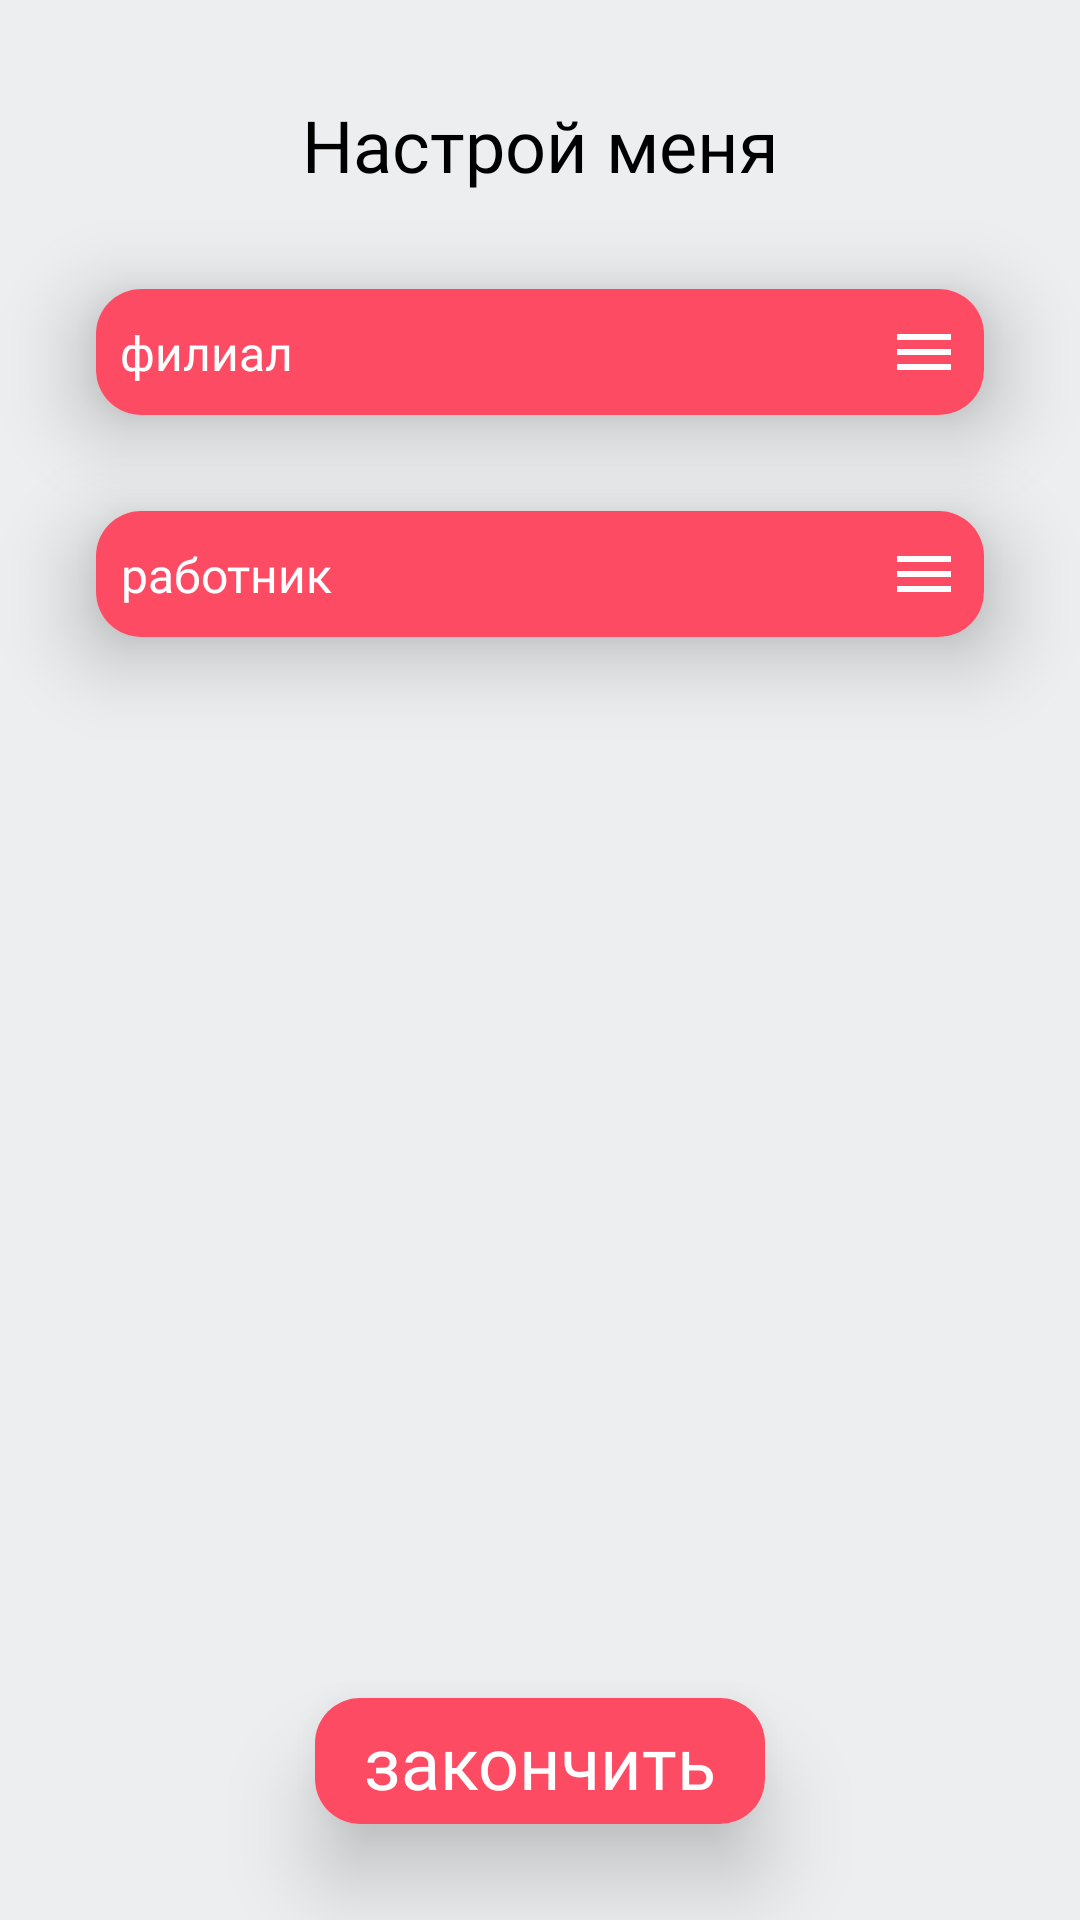

Screen size 1080w x 1920h. Icon name, then its box in pixels as (x1, y1, x2, y2):
menu: (897, 334, 951, 370), (897, 556, 951, 592)
